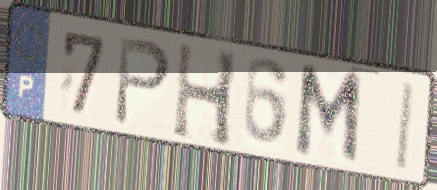6: (241, 53, 293, 155)
7: (60, 29, 107, 117)
H: (170, 38, 241, 150)
I: (393, 80, 419, 175)
M: (292, 62, 365, 170)
P: (111, 33, 174, 129)
